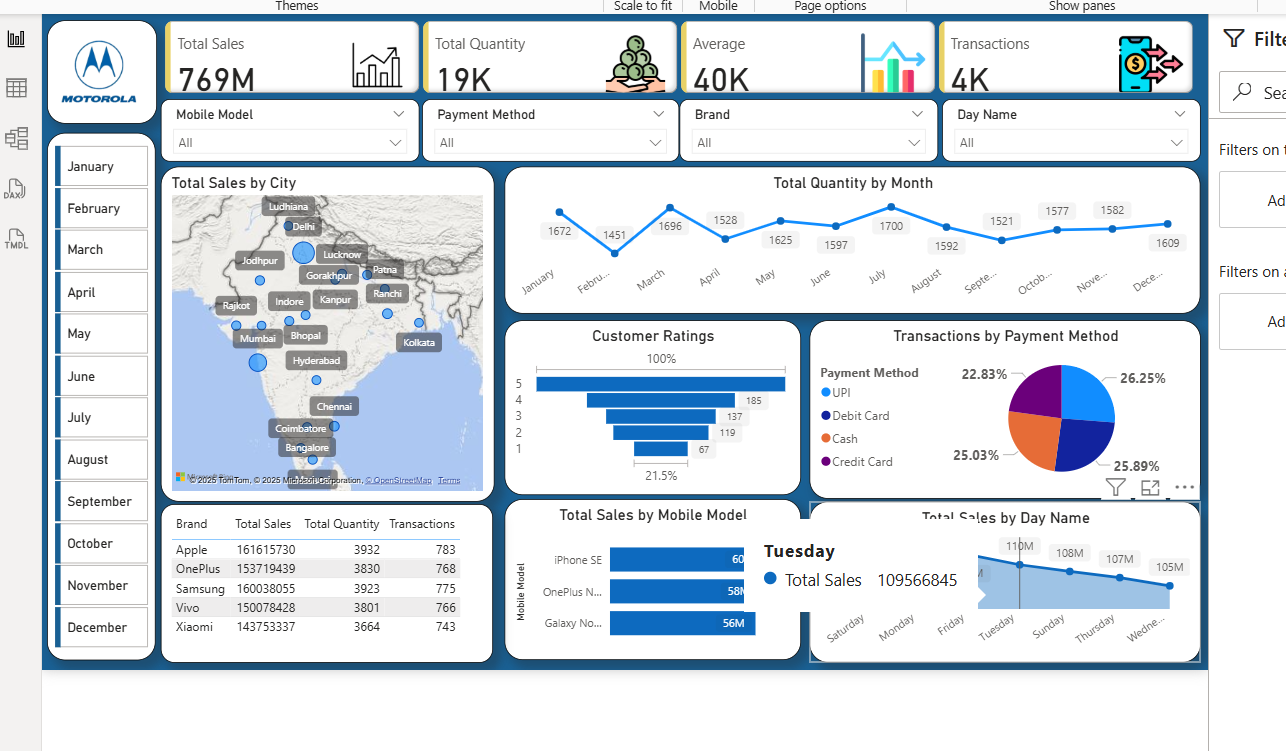

This screenshot's page, from the dashboard's own definition file:
{"tool":"powerbi","page":{"name":"Page 1","canvas":[1280,720],"ordinal":0},"visuals":[{"type":"shape","box":[4.8,7.2,120.6,113.4],"z":0},{"type":"image","box":[6.9,6.9,116.6,113.9],"z":1000},{"type":"shape","box":[5.5,130.4,119.4,579.1],"z":2000},{"type":"advancedSlicerVisual","fields":{"Values":["Sales_Data.Date.Variation.Date Hierarchy.Month"]},"box":[9.6,140,112.5,569.5],"z":3000},{"type":"cardVisual","fields":{"Data":["Sales_Data.Total Sales","Sales_Data.Total Quantity","Sales_Data.Average","Sales_Data.Transactions"]},"box":[130.4,6.9,1141.7,86.4],"z":4000},{"type":"map","fields":{"Category":["Sales_Data.City"],"Size":["Sales_Data.Total Sales"]},"box":[130.4,167.4,366.4,367.8],"z":5000},{"type":"lineChart","fields":{"Category":["Sales_Data.Date.Variation.Date Hierarchy.Month","Sales_Data.Date.Variation.Date Hierarchy.Day"],"Y":["Sales_Data.Total Quantity"]},"box":[507.7,167.4,764.3,161.9],"z":6000},{"type":"clusteredBarChart","fields":{"Category":["Sales_Data.Mobile Model"],"Y":["Sales_Data.Total Sales"]},"box":[507.7,532.4,325.2,177],"z":7000},{"type":"pieChart","fields":{"Y":["Sales_Data.Transactions"],"Category":["Sales_Data.Payment Method"]},"box":[842.5,336.2,429.5,196.2],"z":8000},{"type":"funnel","title":"Customer Ratings","fields":{"Category":["Sales_Data.Customer Ratings"],"Y":["CountNonNull(Sales_Data.Customer Ratings)"]},"box":[507.7,336.2,325.2,192.1],"z":9000},{"type":"areaChart","fields":{"Category":["Sales_Data.Day Name"],"Y":["Sales_Data.Total Sales"]},"box":[842.5,535.2,429.5,177],"z":10000},{"type":"tableEx","fields":{"Values":["Sales_Data.Brand","Sales_Data.Total Sales","Sales_Data.Total Quantity","Sales_Data.Transactions"]},"box":[130.4,537.9,365,174.3],"z":11000},{"type":"slicer","fields":{"Values":["Sales_Data.Mobile Model"]},"box":[130.4,93.3,284,68.6],"z":12000},{"type":"slicer","fields":{"Values":["Sales_Data.Payment Method"]},"box":[417.2,93.3,282.7,68.6],"z":13000},{"type":"slicer","fields":{"Values":["Sales_Data.Brand"]},"box":[699.8,93.3,284,68.6],"z":14000},{"type":"slicer","fields":{"Values":["Sales_Data.Day Name"]},"box":[988,93.3,284,68.6],"z":15000}]}

Visuals, with their boxes on the page's 1280x720 design canvas (x1, y1, x2, y2). These are canvas units, not pixel positions in the 1286x751 screenshot, which may show the page scaled, cropped or inside an application window:
shape: x1=5, y1=7, x2=125, y2=121
image: x1=7, y1=7, x2=124, y2=121
shape: x1=6, y1=130, x2=125, y2=710
advancedSlicerVisual - Sales_Data.Date.Variation.Date Hierarchy.Month: x1=10, y1=140, x2=122, y2=710
cardVisual - Sales_Data.Total Sales x Sales_Data.Total Quantity: x1=130, y1=7, x2=1272, y2=93
map - Sales_Data.City x Sales_Data.Total Sales: x1=130, y1=167, x2=497, y2=535
lineChart - Sales_Data.Date.Variation.Date Hierarchy.Month x Sales_Data.Date.Variation.Date Hierarchy.Day: x1=508, y1=167, x2=1272, y2=329
clusteredBarChart - Sales_Data.Mobile Model x Sales_Data.Total Sales: x1=508, y1=532, x2=833, y2=709
pieChart - Sales_Data.Transactions x Sales_Data.Payment Method: x1=842, y1=336, x2=1272, y2=532
"Customer Ratings" funnel: x1=508, y1=336, x2=833, y2=528
areaChart - Sales_Data.Day Name x Sales_Data.Total Sales: x1=842, y1=535, x2=1272, y2=712
tableEx - Sales_Data.Brand x Sales_Data.Total Sales: x1=130, y1=538, x2=495, y2=712
slicer - Sales_Data.Mobile Model: x1=130, y1=93, x2=414, y2=162
slicer - Sales_Data.Payment Method: x1=417, y1=93, x2=700, y2=162
slicer - Sales_Data.Brand: x1=700, y1=93, x2=984, y2=162
slicer - Sales_Data.Day Name: x1=988, y1=93, x2=1272, y2=162
